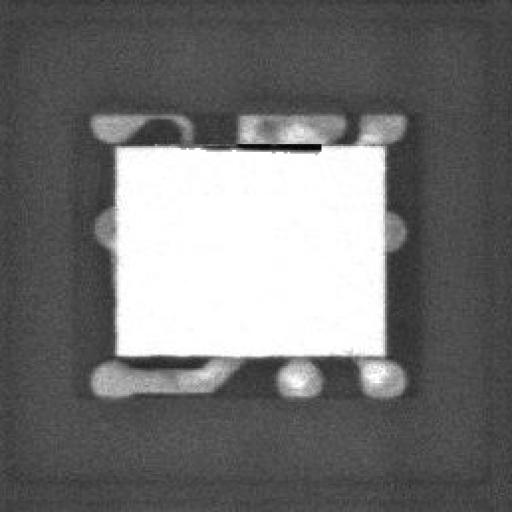DIE_BROKEN: (224, 136, 322, 156)
